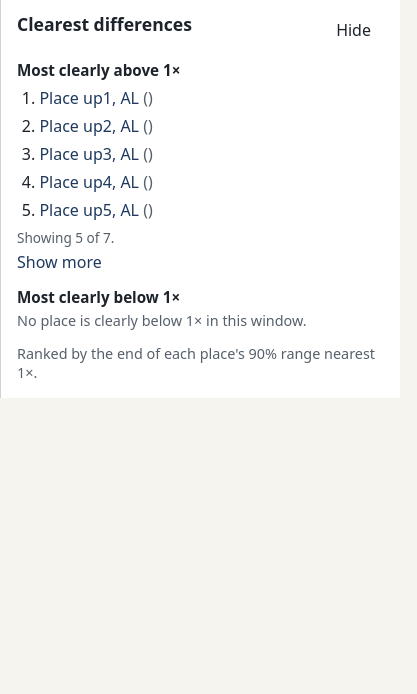
Clearest differences: Show more › keeps the language notes working on the places it adds
The width and height of the screenshot is (417, 694).
Expected: the text "Papers in German" is not shown
Click the button "Show more" at (59,262), box [17,249,102,275]
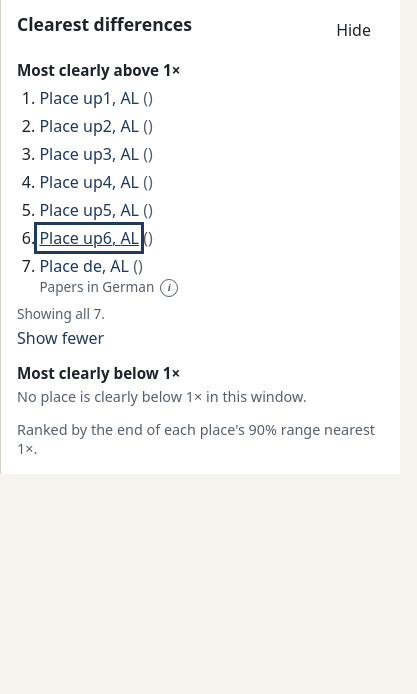
Click the button named "What this means" at (169,288), box [160,279,178,297]
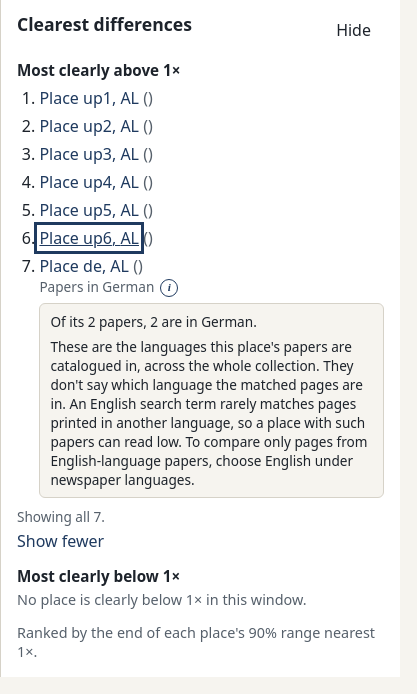
Now the button named "What this means" is expanded, box [160,279,178,297]
